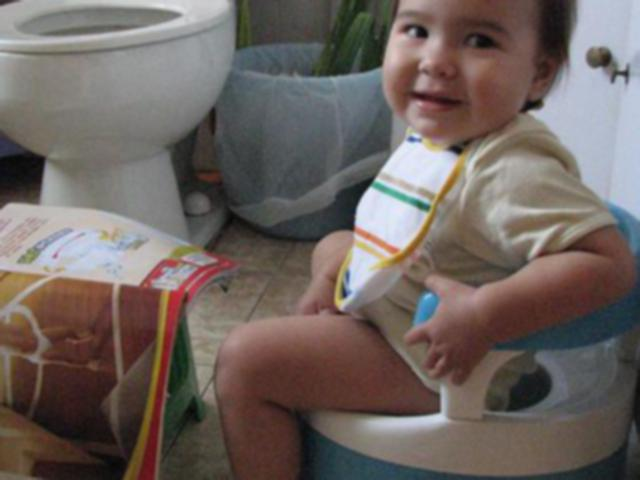Bote de Basura: (222, 42, 407, 262)
Sanitario: (277, 198, 640, 480), (0, 0, 301, 279)
